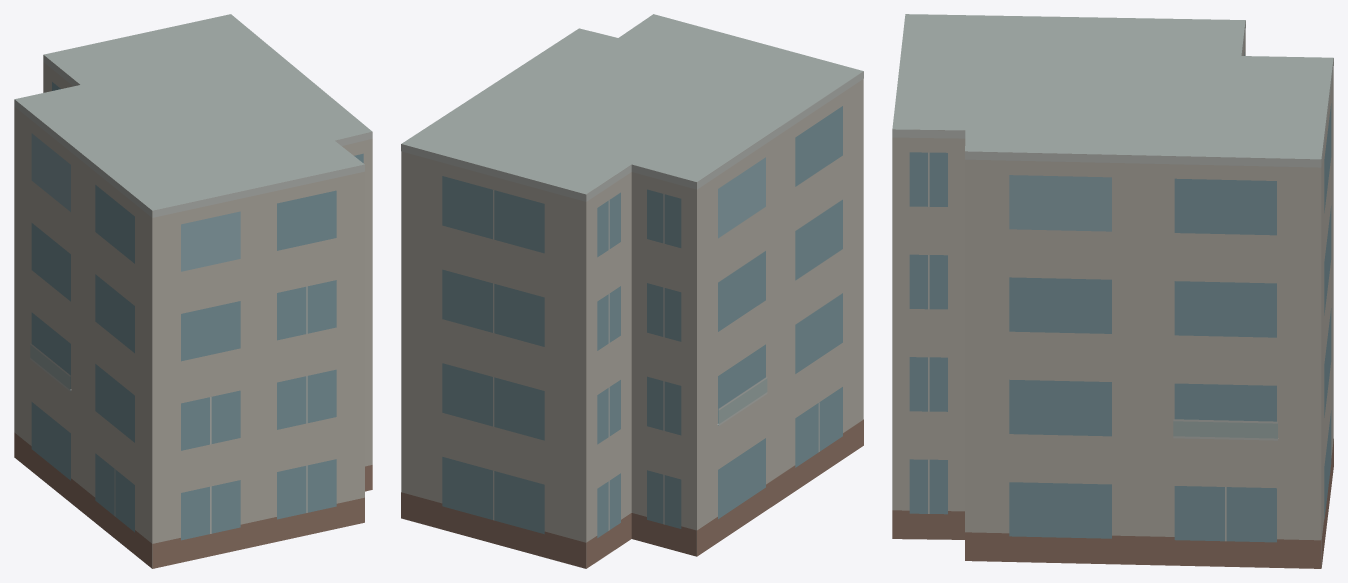
File: survey-upis-32487587.glb
3 renders of one model, left to right at view 1: azimuth 30°, elevation 25°; view 2: azimuth 150°, elevation 25°; view 3: azimuth 270°, elevation 25°, orthographic. The views are drawn at different scales.
Parts seen in each view (by area): view 1: survey-upis-32487587.tmp; view 2: survey-upis-32487587.tmp; view 3: survey-upis-32487587.tmp.
Boxes of the visible parts, x1,y1,x2,y2 form: survey-upis-32487587.tmp: (14,14,372,568); survey-upis-32487587.tmp: (401,14,863,568); survey-upis-32487587.tmp: (892,14,1333,568).
Bounding box in the file's own units: 9.3 × 12.2 × 11.93.
